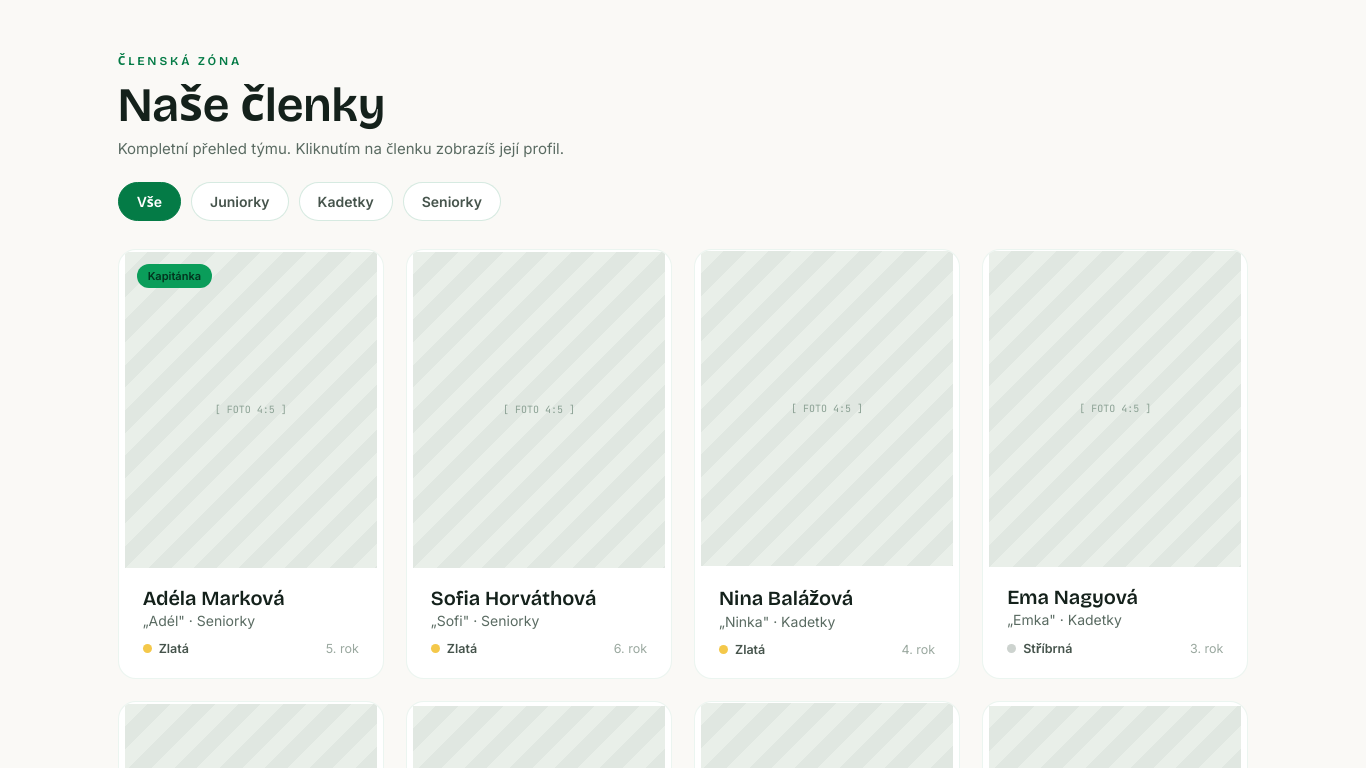
team grid opens a member detail modal
The width and height of the screenshot is (1366, 768).
Expected: the heading "Naše členky" is shown, [118,76,385,134]
Click the button "Adéla Marková". click: (251, 464)
box: [118,249,384,679]
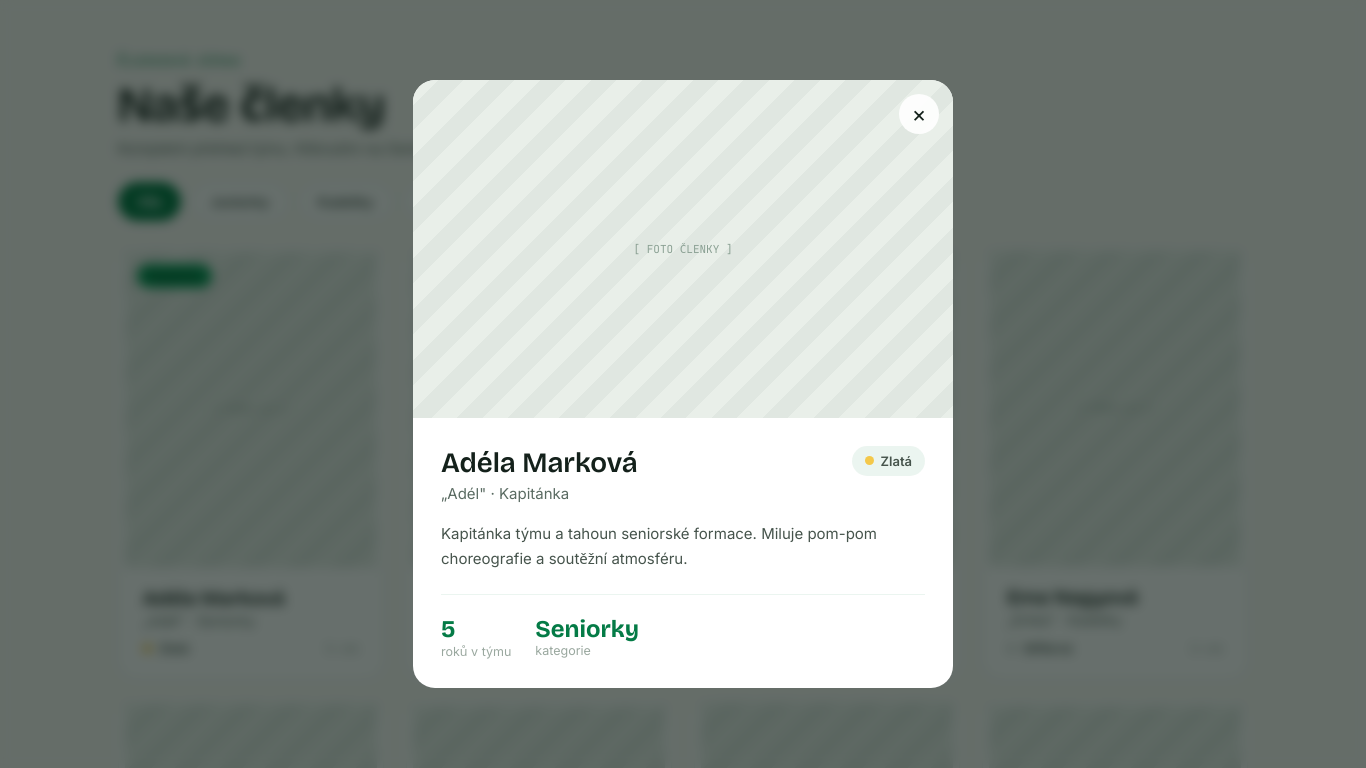
Expected: the text "Kapitánka týmu" is shown, [441,524,877,568]
